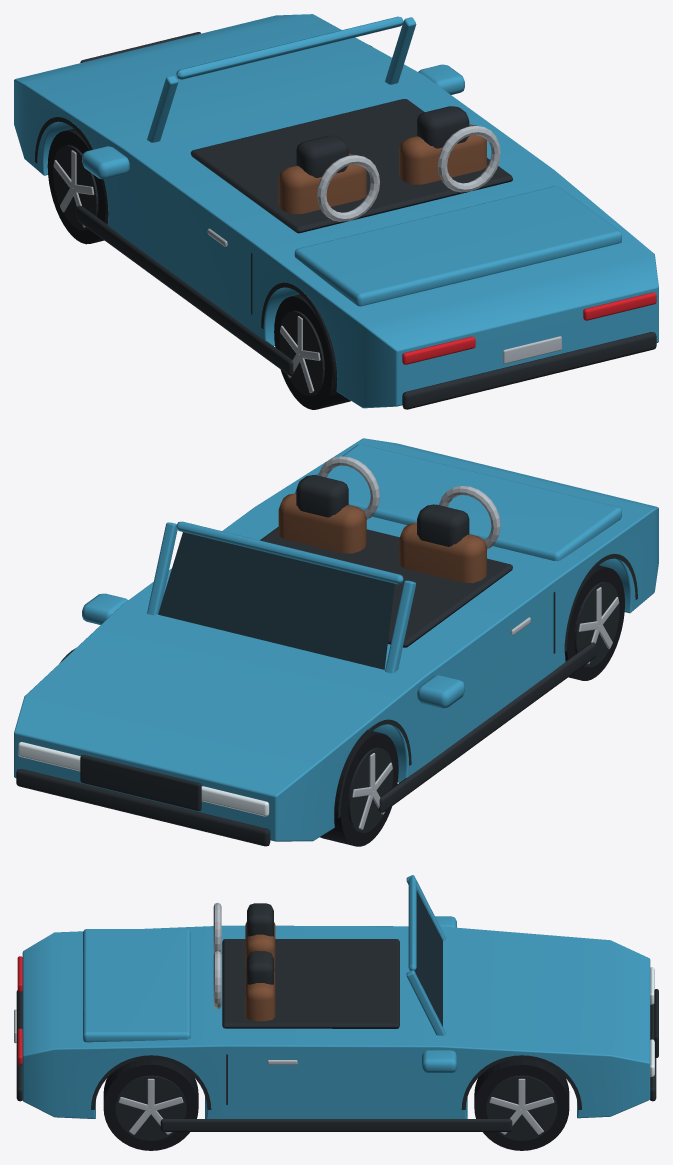
The model's file is coastal_roadster.glb.
The picture shows the model from 3 angles, top to bottom: view 1: azimuth 30°, elevation 25°; view 2: azimuth 150°, elevation 25°; view 3: azimuth 270°, elevation 25°; orthographic projection. The views are drawn at different scales.
Parts seen in each view (by area): view 1: sculpted-body, rear deck, open cockpit, lower bumper.001, side skirt, seat back, seat back.001, tire.002, windshield rail, rim.004, rim, tire (+12 smaller); view 2: sculpted-body, windscreen, rear deck, open cockpit, lower bumper, side skirt, grille, seat back.001, seat back, tire, windshield rail, tire.002 (+13 smaller); view 3: sculpted-body, open cockpit, rear deck, side skirt.001, tire.003, tire.001, rim.007, rim.003, windscreen, seat back.001, head rest, head rest.001 (+9 smaller).
Part boxes in pixels (left/top/right/bottom): sculpted-body: left=14, top=14, right=658, bottom=408; rear deck: left=294, top=186, right=621, bottom=306; open cockpit: left=190, top=99, right=512, bottom=233; lower bumper.001: left=402, top=332, right=656, bottom=409; side skirt: left=76, top=205, right=294, bottom=375; seat back: left=278, top=154, right=366, bottom=214; seat back.001: left=399, top=124, right=486, bottom=184; tire.002: left=274, top=293, right=350, bottom=409; windshield rail: left=176, top=16, right=403, bottom=79; rim.004: left=279, top=310, right=324, bottom=396; rim: left=53, top=145, right=98, bottom=230; tire: left=47, top=127, right=108, bottom=244; sculpted-body: left=14, top=438, right=658, bottom=841; windscreen: left=158, top=532, right=394, bottom=669; rear deck: left=295, top=444, right=621, bottom=561; open cockpit: left=260, top=527, right=512, bottom=647; lower bumper: left=16, top=769, right=270, bottom=846; side skirt: left=378, top=642, right=595, bottom=812; grille: left=80, top=755, right=201, bottom=810; seat back.001: left=278, top=493, right=366, bottom=553; seat back: left=399, top=522, right=486, bottom=583; tire: left=320, top=730, right=398, bottom=846; windshield rail: left=176, top=521, right=403, bottom=584; tire.002: left=565, top=565, right=624, bottom=680; sculpted-body: left=22, top=925, right=650, bottom=1118; open cockpit: left=222, top=939, right=399, bottom=1028; rear deck: left=83, top=929, right=190, bottom=1042; side skirt.001: left=160, top=1119, right=512, bottom=1131; tire.003: left=103, top=1059, right=198, bottom=1150; tire.001: left=474, top=1059, right=569, bottom=1150; rim.007: left=115, top=1075, right=186, bottom=1140; rim.003: left=486, top=1075, right=557, bottom=1140; windscreen: left=415, top=890, right=442, bottom=1026; seat back.001: left=245, top=970, right=275, bottom=1021; head rest: left=247, top=903, right=273, bottom=936; head rest.001: left=247, top=951, right=273, bottom=984.
Size of the model in its own units: 2.19 by 1.2 by 4.07.
